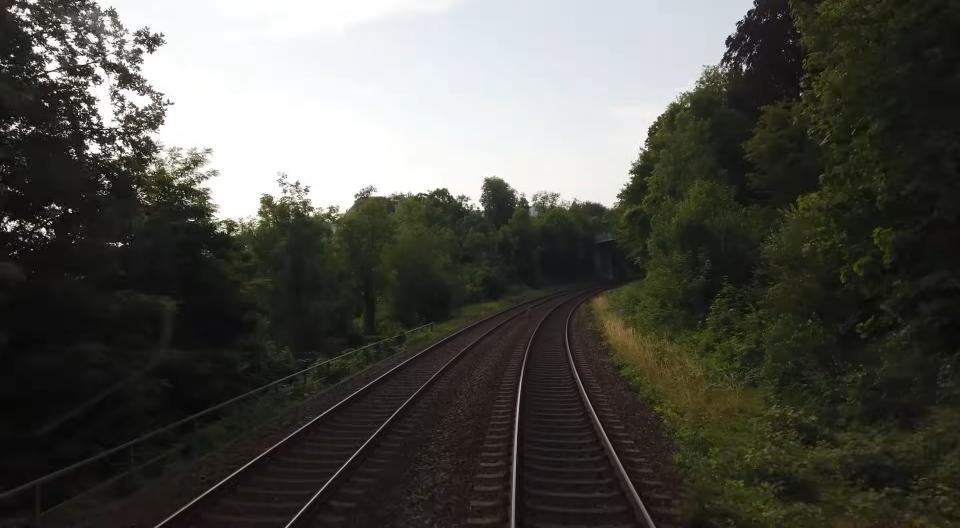Plant: (592, 286, 960, 528), (405, 287, 558, 352)
